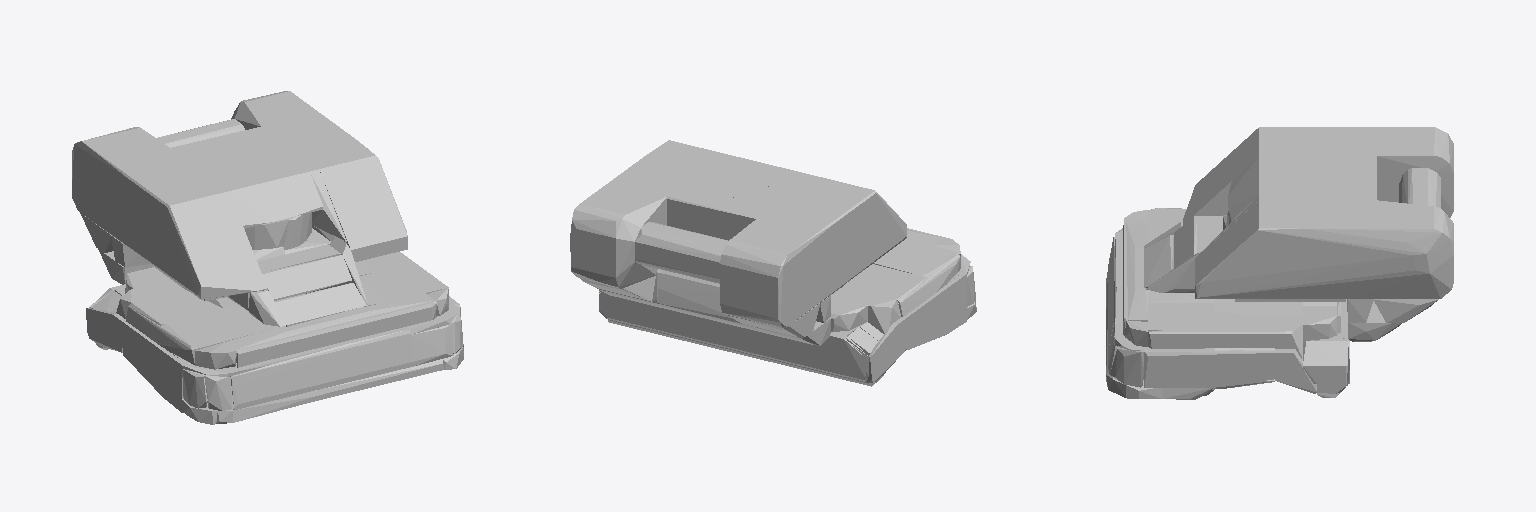
The model's file is r_distal_vhacd.obj.
3 renders of one model, left to right at view 1: azimuth 30°, elevation 25°; view 2: azimuth 150°, elevation 25°; view 3: azimuth 270°, elevation 25°, orthographic.
Visible parts, largest first — view 1: convex_2, convex_1, convex_67, convex_54, convex_71, convex_77, convex_69, convex_78, convex_70, convex_8, convex_73, convex_79 (+24 smaller); view 2: convex_2, convex_1, convex_39, convex_4, convex_38, convex_76, convex_54, convex_79, convex_8, convex_69, convex_14, convex_27 (+10 smaller); view 3: convex_1, convex_2, convex_25, convex_54, convex_26, convex_70, convex_79, convex_73, convex_4, convex_38, convex_43, convex_18 (+18 smaller).
Part boxes in pixels (x1,y1,x2,y2): convex_2: (72, 127, 267, 299); convex_1: (231, 91, 407, 261); convex_67: (230, 329, 413, 409); convex_54: (207, 155, 322, 228); convex_71: (236, 301, 436, 367); convex_77: (262, 255, 351, 300); convex_69: (169, 306, 276, 348); convex_78: (274, 283, 366, 326); convex_70: (226, 293, 434, 349); convex_8: (122, 321, 185, 399); convex_73: (359, 264, 443, 300); convex_79: (188, 138, 295, 173); convex_2: (720, 176, 906, 327); convex_1: (570, 140, 724, 288); convex_39: (600, 292, 867, 376); convex_4: (635, 222, 728, 283); convex_38: (667, 185, 771, 240); convex_76: (657, 270, 741, 323); convex_54: (713, 156, 813, 191); convex_79: (684, 171, 792, 206); convex_8: (904, 273, 966, 336); convex_69: (877, 238, 955, 273); convex_14: (867, 317, 906, 382); convex_27: (898, 252, 960, 316); convex_1: (1195, 200, 1453, 298); convex_2: (1183, 127, 1453, 224); convex_25: (1144, 350, 1274, 387); convex_54: (1228, 156, 1304, 221); convex_26: (1148, 325, 1274, 348); convex_70: (1126, 223, 1147, 321); convex_79: (1305, 156, 1344, 199); convex_73: (1148, 303, 1214, 330); convex_4: (1399, 168, 1440, 207); convex_38: (1345, 156, 1376, 199); convex_43: (1303, 338, 1345, 383); convex_18: (1215, 299, 1302, 316).
Size of the model in its own units: 0.0393 by 0.0225 by 0.0433.